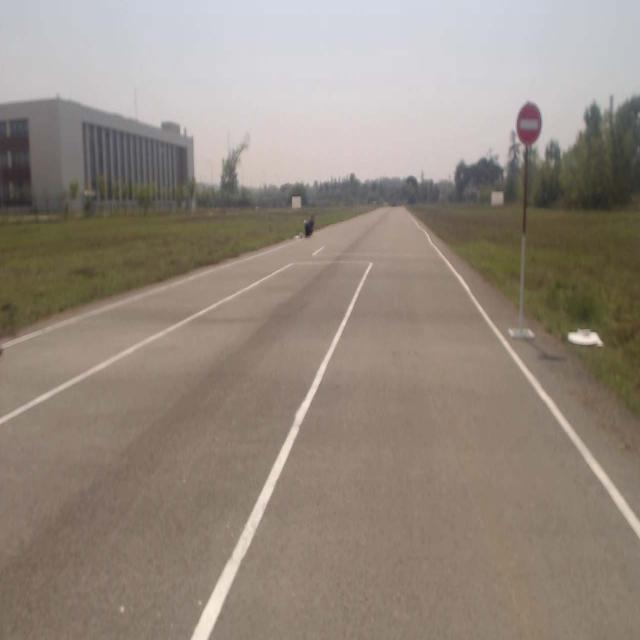girisyok: (516, 102, 542, 146)
